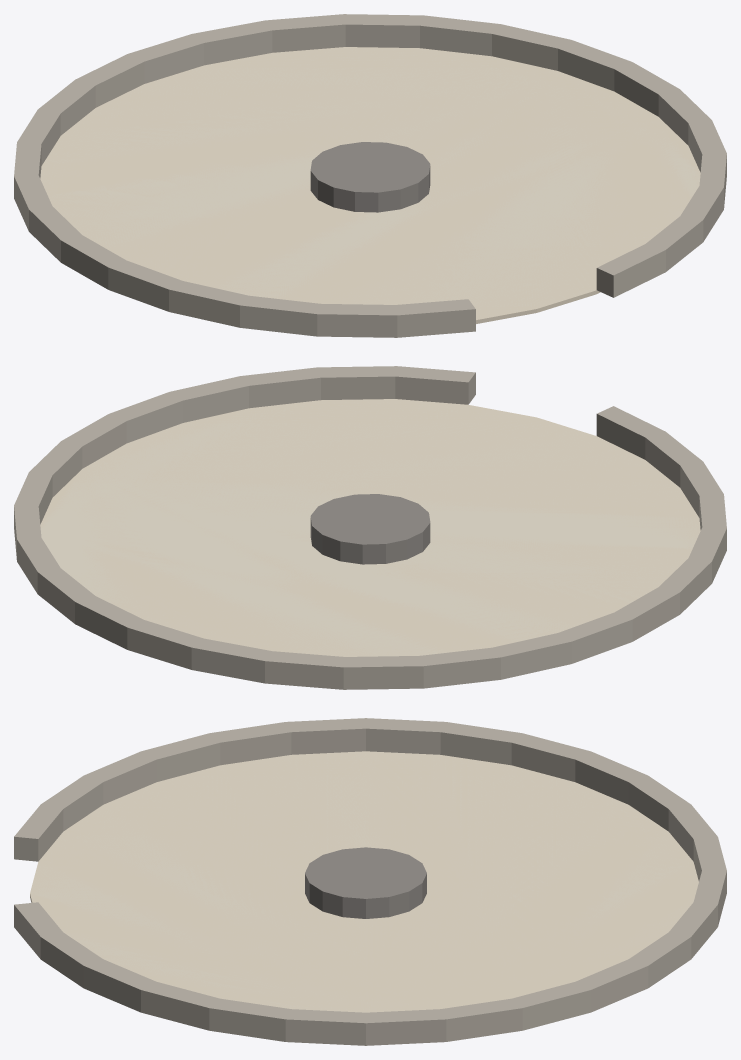
Rendered from ceremonial-infrastructure.lod2.glb.
3 renders of one model, top to bottom at view 1: azimuth 30°, elevation 25°; view 2: azimuth 150°, elevation 25°; view 3: azimuth 270°, elevation 25°, orthographic.
Bounding box in the file's own units: 13 × 0.5301 × 12.84.
